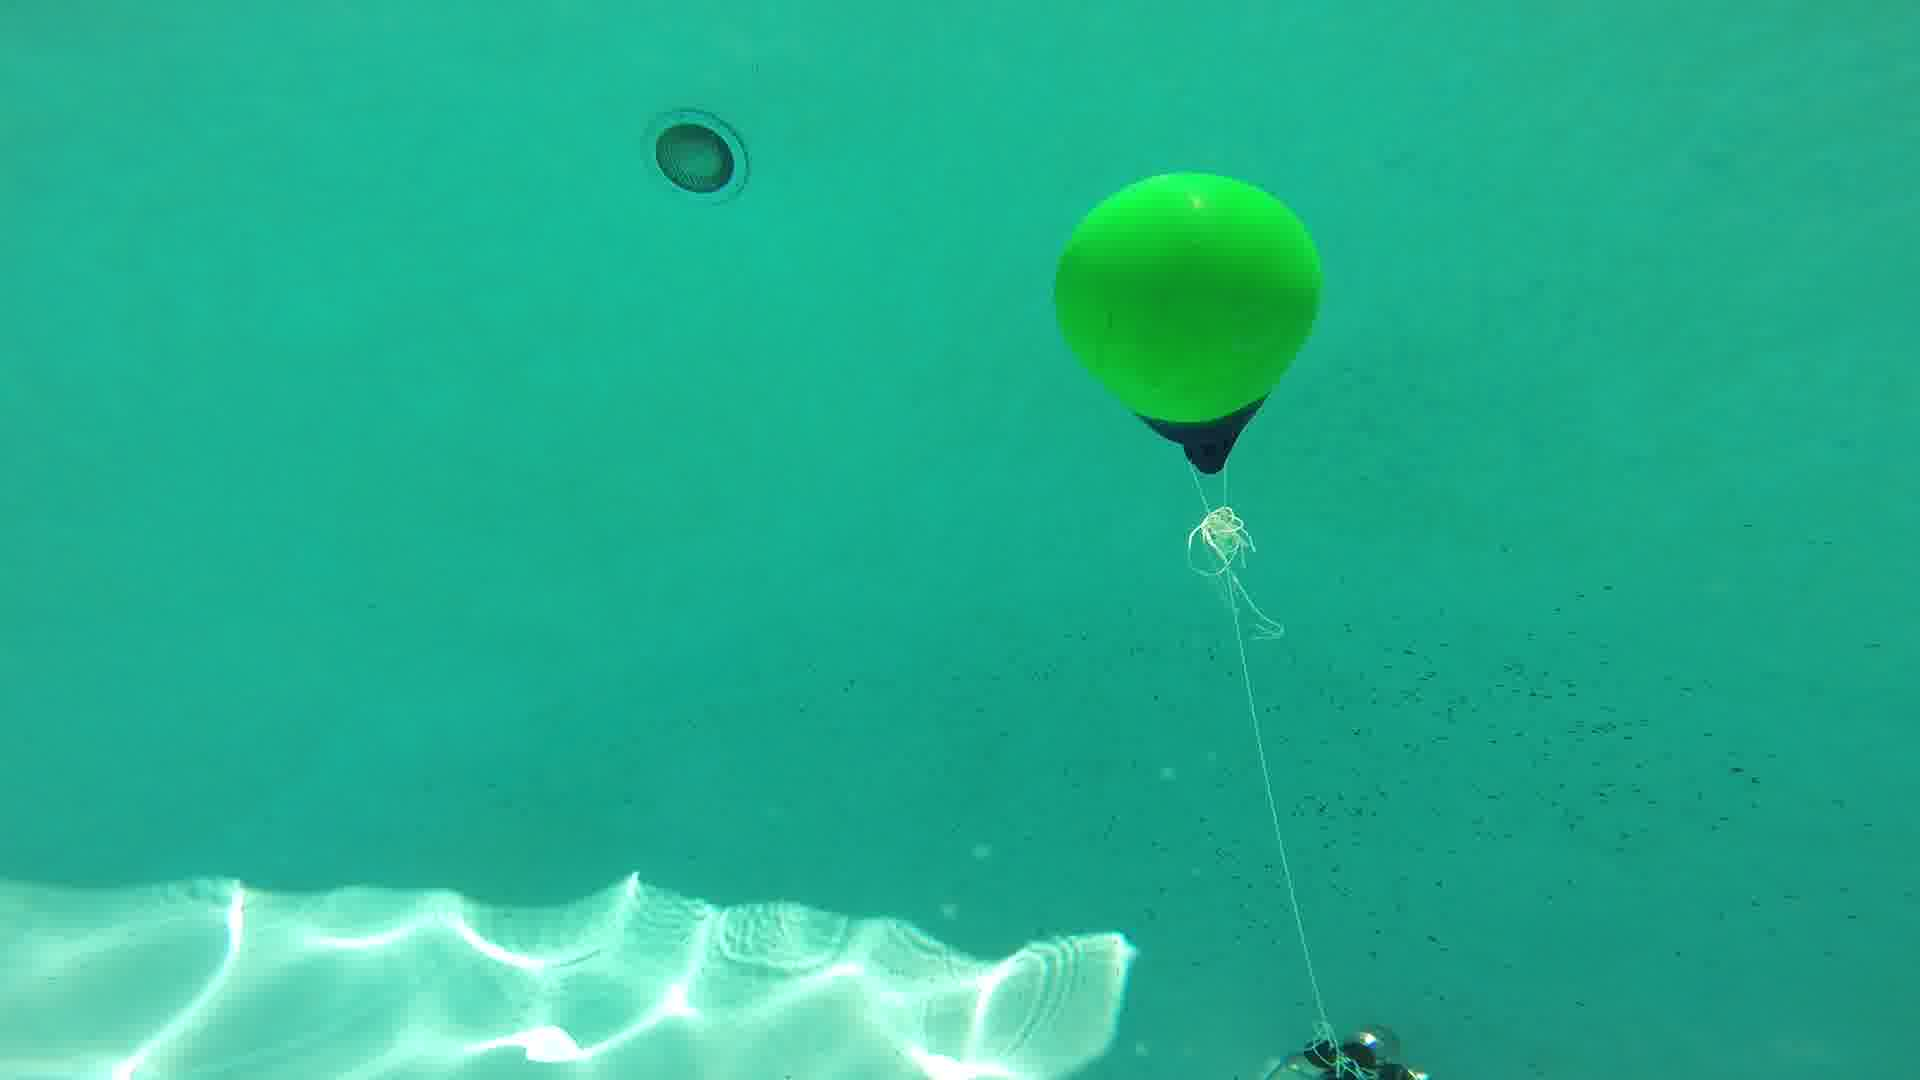yellow_buoy: (1054, 169, 1323, 477)
